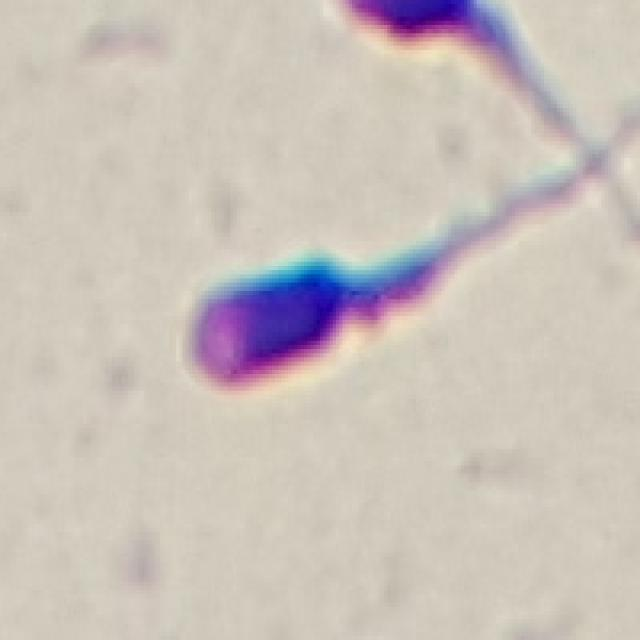abnormal sperm: (162, 198, 566, 396)
